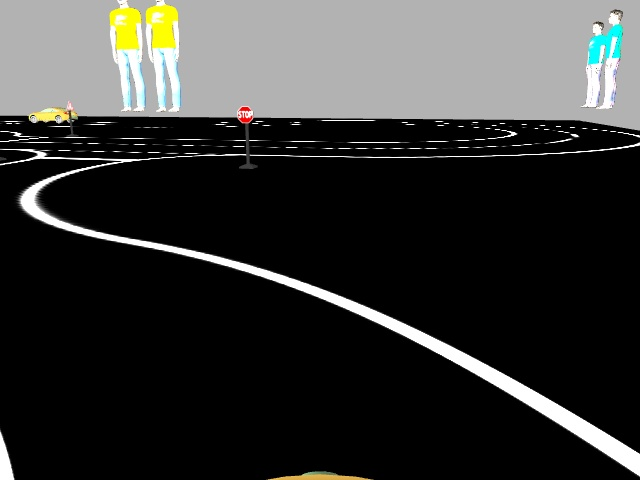Stop: (235, 103, 253, 122)
